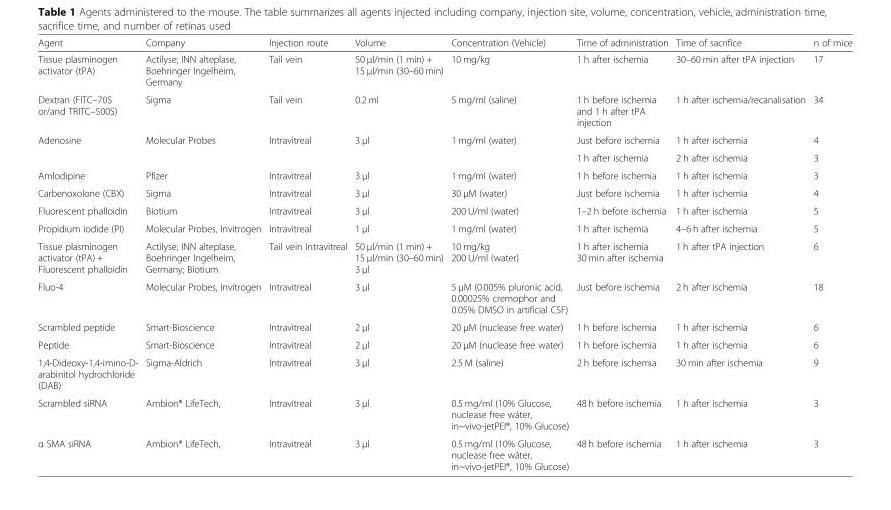table: (38, 36, 852, 471)
table column: (672, 36, 809, 471), (447, 36, 573, 471), (142, 36, 265, 471), (38, 36, 142, 471), (573, 36, 672, 471), (351, 36, 447, 471), (265, 36, 351, 471), (809, 36, 852, 471)
table column header: (38, 36, 852, 49)
table row: (38, 49, 852, 90), (38, 276, 852, 317), (38, 352, 852, 393), (38, 90, 852, 130), (38, 236, 852, 276), (38, 393, 852, 433), (38, 433, 852, 471), (38, 130, 852, 148), (38, 165, 852, 183), (38, 183, 852, 201), (38, 218, 852, 236), (38, 317, 852, 335), (38, 148, 852, 165), (38, 201, 852, 218), (38, 335, 852, 352), (38, 36, 852, 49)
table spanning cell: (447, 130, 573, 165), (142, 130, 265, 165), (38, 130, 142, 165), (351, 130, 447, 165), (265, 130, 351, 165)
